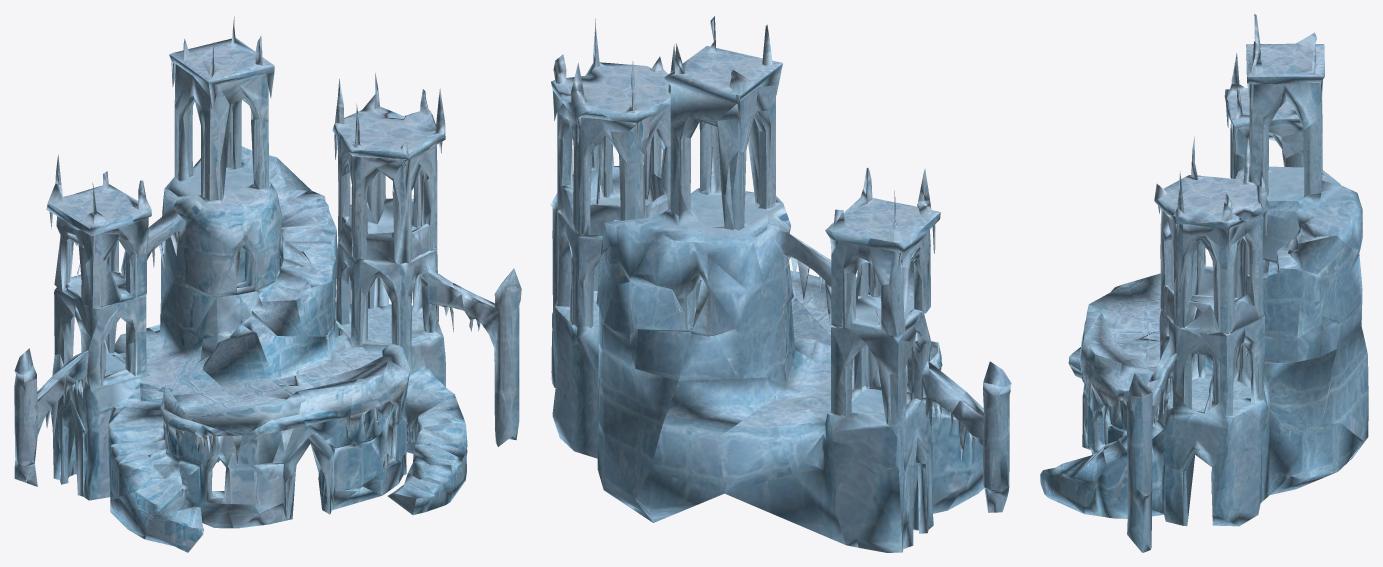
File: ice_castle.glb
3 renders of one model, left to right at view 1: azimuth 30°, elevation 25°; view 2: azimuth 150°, elevation 25°; view 3: azimuth 270°, elevation 25°, orthographic. The views are drawn at different scales.
Parts seen in each view (by area): view 1: ice_castle; view 2: ice_castle; view 3: ice_castle.
Part boxes in pixels (x1,y1,x2,y2): ice_castle: (14, 16, 521, 552); ice_castle: (550, 16, 1011, 552); ice_castle: (1040, 14, 1368, 552).
Bounding box in the file's own units: 1.89 × 1.66 × 1.18.
1 material, 1 textured.
